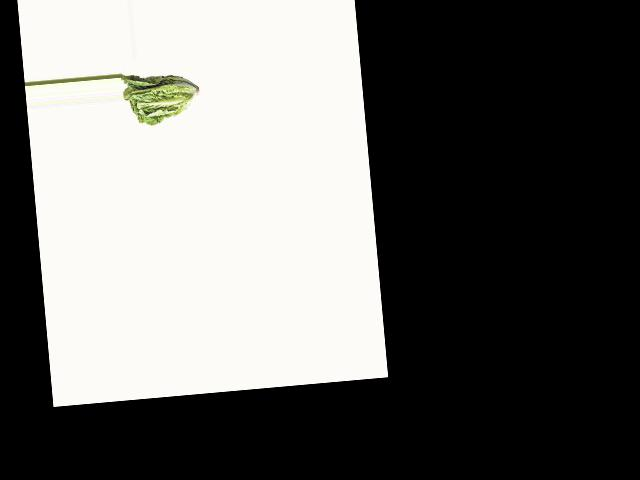lettuce: (121, 69, 200, 130)
